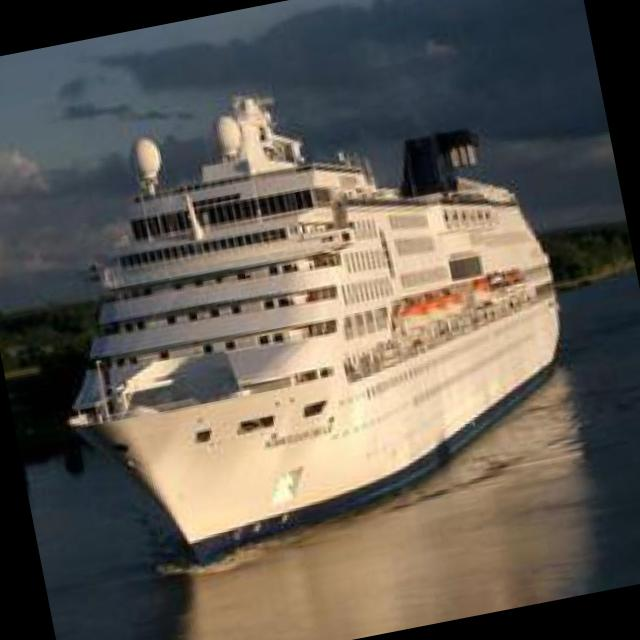boat: (20, 96, 608, 556)
